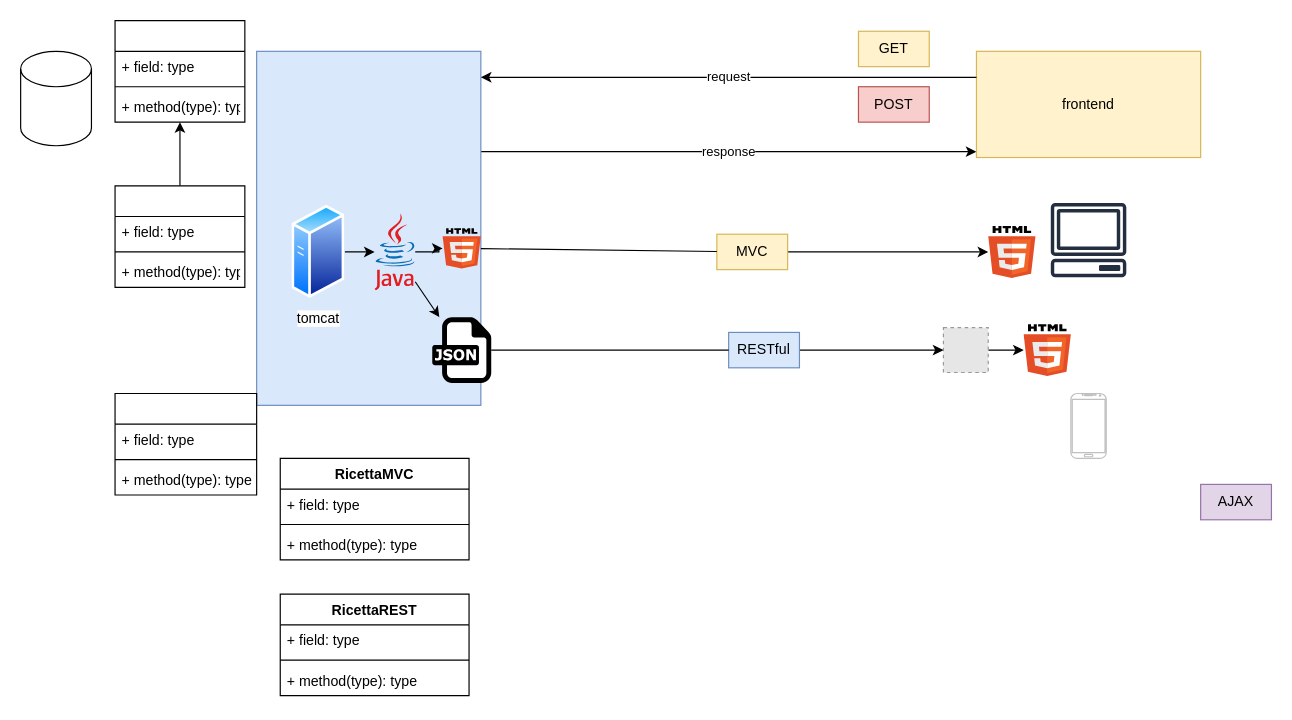
Image size: 1292x720. Some labels were removed from this diagram. Grey dashed boxes stand in for pictures. Here are the shapes that lost their labels. From the top down, the box of each, then its label:
(114, 19, 245, 122): RicettaDAO
(114, 185, 245, 287): Ricetta
(255, 50, 481, 405): backend
(1040, 192, 1136, 287): client web
(114, 392, 257, 495): RicettaService
